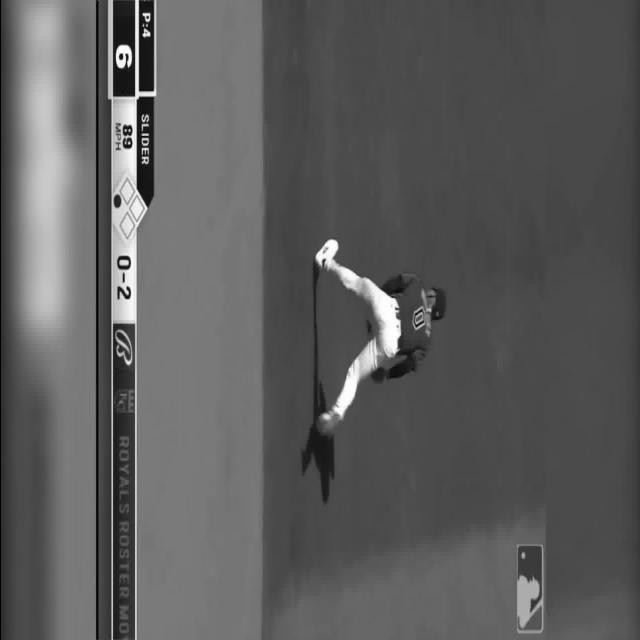shoe: (314, 407, 341, 438), (314, 240, 338, 269)
